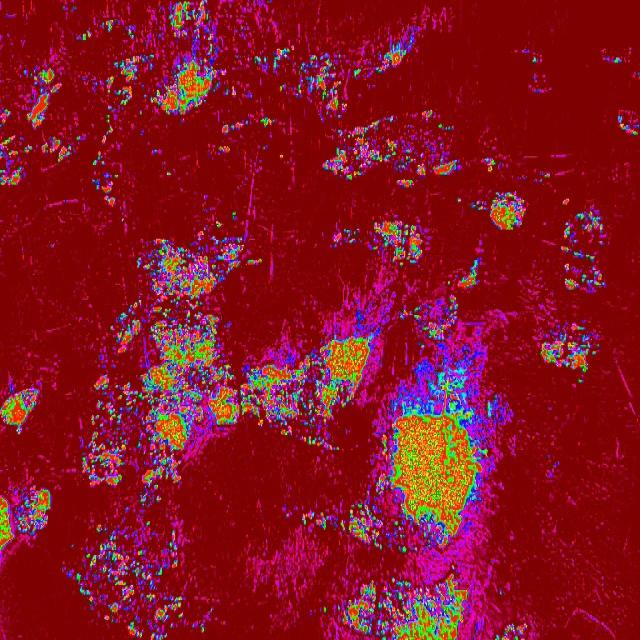fire: (90, 326, 376, 435), (374, 357, 504, 555), (60, 520, 184, 640), (114, 232, 246, 327), (336, 574, 474, 640), (321, 121, 460, 185), (152, 0, 225, 120), (539, 319, 603, 387), (559, 212, 607, 296), (135, 436, 191, 506), (294, 51, 348, 120), (0, 488, 50, 554), (102, 53, 151, 112), (80, 435, 130, 489), (18, 69, 61, 130), (370, 28, 422, 76), (370, 220, 424, 266), (410, 295, 463, 340), (0, 386, 44, 436), (348, 491, 375, 545), (491, 189, 527, 229), (300, 508, 346, 534), (0, 133, 21, 187), (89, 174, 120, 210), (38, 134, 74, 164), (332, 224, 361, 252), (301, 434, 344, 452), (492, 621, 530, 640), (459, 260, 484, 288), (98, 115, 120, 144), (270, 46, 294, 72), (615, 114, 640, 138), (222, 119, 250, 135), (90, 151, 110, 169), (190, 618, 207, 634), (480, 154, 496, 170), (536, 170, 552, 186), (122, 22, 138, 38), (466, 200, 489, 211), (98, 17, 115, 31), (245, 256, 263, 269), (0, 110, 12, 128), (601, 54, 622, 64), (260, 114, 274, 128), (227, 84, 241, 98), (252, 54, 268, 66), (217, 142, 230, 156), (282, 502, 292, 520), (77, 28, 94, 38), (20, 144, 33, 156), (398, 308, 408, 322), (352, 64, 362, 78), (420, 108, 436, 116), (164, 169, 175, 179), (561, 196, 572, 206), (417, 340, 427, 350), (530, 54, 540, 64), (278, 82, 288, 92), (455, 194, 463, 206), (231, 208, 239, 218), (322, 605, 329, 615), (215, 220, 222, 230), (386, 114, 395, 121), (75, 132, 81, 142), (498, 588, 504, 598), (278, 152, 286, 159), (446, 280, 454, 286), (238, 24, 244, 31), (120, 217, 126, 224), (209, 606, 214, 614), (138, 110, 144, 116)
